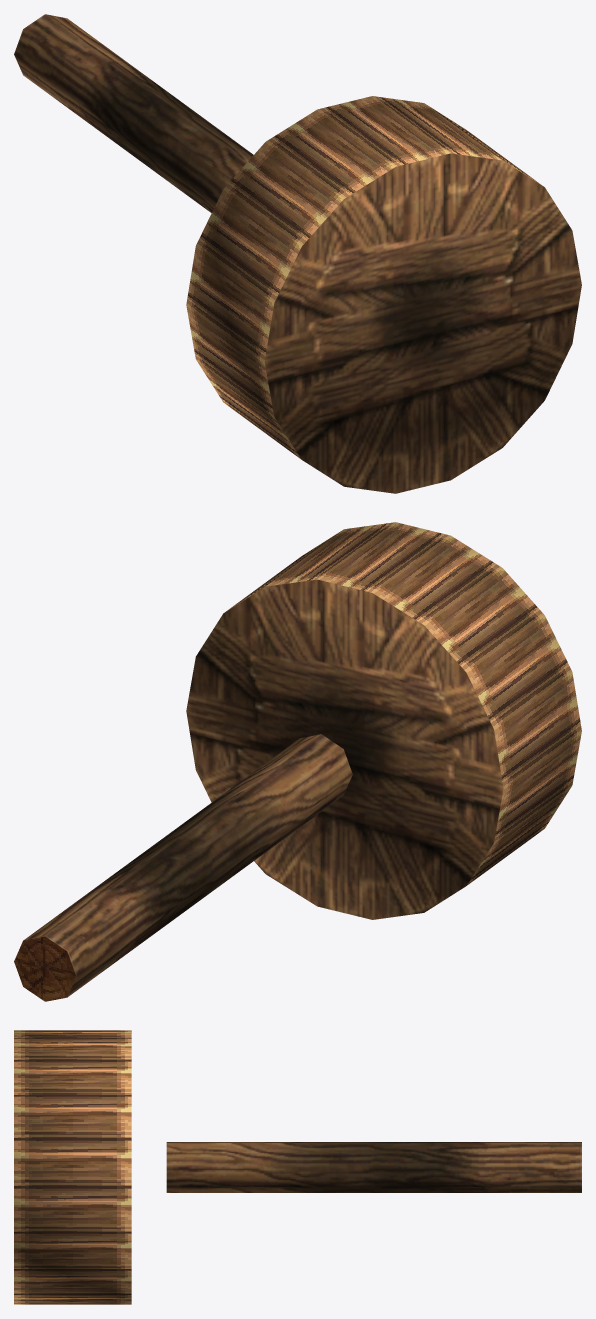
File: INST_SWORDLIGHT_DRUME.fbx
3 renders of one model, top to bottom at view 1: azimuth 30°, elevation 25°; view 2: azimuth 150°, elevation 25°; view 3: azimuth 270°, elevation 25°, orthographic. The views are drawn at different scales.
Visible parts, largest first — view 1: INST_SWORDLIGHT_DRUME; view 2: INST_SWORDLIGHT_DRUME; view 3: INST_SWORDLIGHT_DRUME.
Part boxes in pixels (x1=…): INST_SWORDLIGHT_DRUME: x1=14, y1=14, x2=581, y2=493; INST_SWORDLIGHT_DRUME: x1=14, y1=522, x2=581, y2=1001; INST_SWORDLIGHT_DRUME: x1=14, y1=1030, x2=581, y2=1304.
Bounding box in the file's own units: 25400 × 25014 × 52431.
4 materials, 4 textured.
